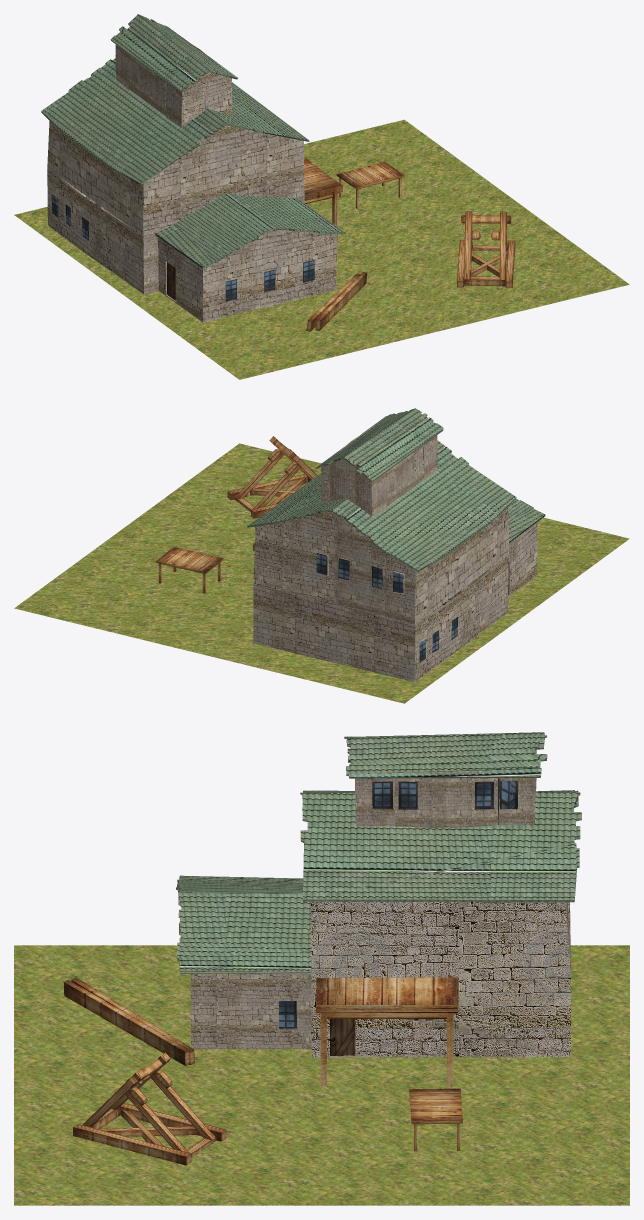
File: elf_taller.fbx
3 renders of one model, top to bottom at view 1: azimuth 30°, elevation 25°; view 2: azimuth 150°, elevation 25°; view 3: azimuth 270°, elevation 25°, orthographic. The views are drawn at different scales.
Visible parts, largest first — view 1: Plane, estructura, tejados, CatapultBaseLeft, table, table.001, Cube; view 2: Plane, estructura, tejados, CatapultBaseLeft, table.001; view 3: Plane, estructura, tejados, table, CatapultBaseLeft, Cube, table.001, Cube.001.
Boxes of the visible parts, x1,y1,x2,y2 form: Plane: [14, 119, 629, 379]; estructura: [47, 26, 336, 322]; tejados: [41, 14, 345, 268]; CatapultBaseLeft: [457, 211, 515, 287]; table: [304, 157, 342, 246]; table.001: [336, 161, 404, 208]; Cube: [315, 271, 367, 330]; Plane: [14, 443, 629, 703]; estructura: [253, 426, 537, 681]; tejados: [247, 408, 545, 571]; CatapultBaseLeft: [227, 436, 317, 518]; table.001: [156, 547, 223, 593]; Plane: [14, 945, 629, 1205]; estructura: [190, 749, 570, 1057]; tejados: [176, 732, 581, 974]; table: [316, 977, 458, 1086]; CatapultBaseLeft: [73, 1052, 226, 1165]; Cube: [63, 980, 189, 1065]; table.001: [409, 1088, 462, 1151]; Cube.001: [71, 977, 194, 1065].
Size of the model in its own units: 1027 by 572 by 1027.
